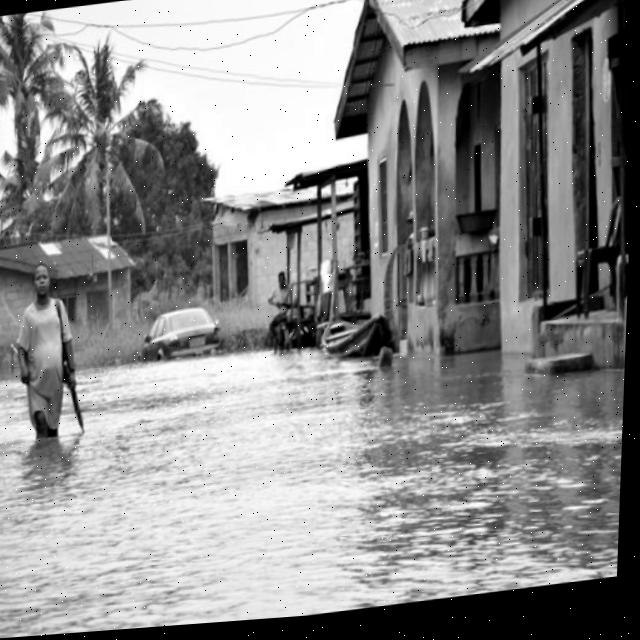civilian: (0, 243, 130, 479), (260, 267, 301, 348)
